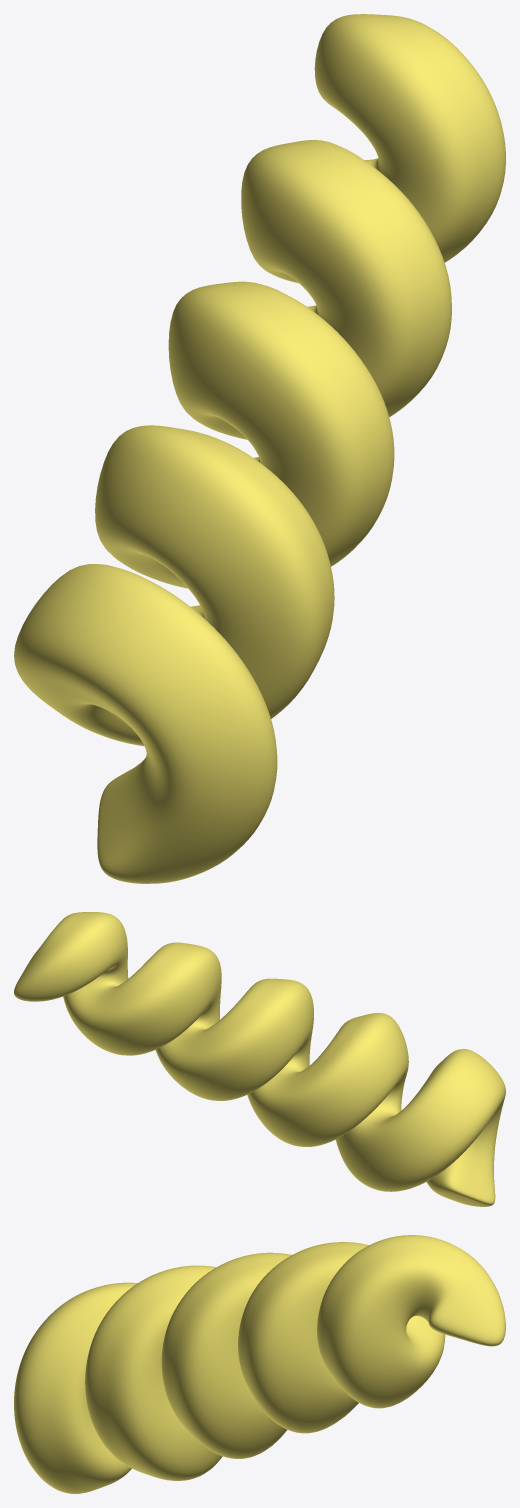
Rendered from Fusili.006.gltf.
3 renders of one model, top to bottom at view 1: azimuth 30°, elevation 25°; view 2: azimuth 150°, elevation 25°; view 3: azimuth 270°, elevation 25°, orthographic. The views are drawn at different scales.
Visible parts, largest first — view 1: Fusili.006; view 2: Fusili.006; view 3: Fusili.006.
Boxes of the visible parts, x1,y1,x2,y2 form: Fusili.006: (14, 14, 505, 883); Fusili.006: (14, 912, 505, 1206); Fusili.006: (14, 1235, 505, 1493).
Size of the model in its own units: 1.12 by 0.9972 by 1.09.
